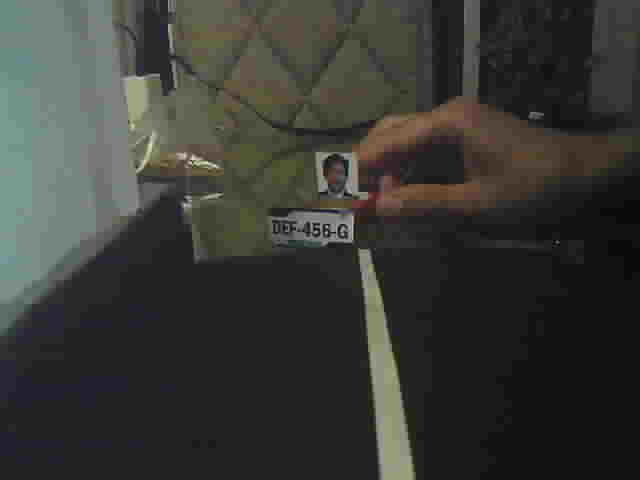PLACA: (267, 206, 354, 251)
ROSTRO: (313, 150, 362, 201)
